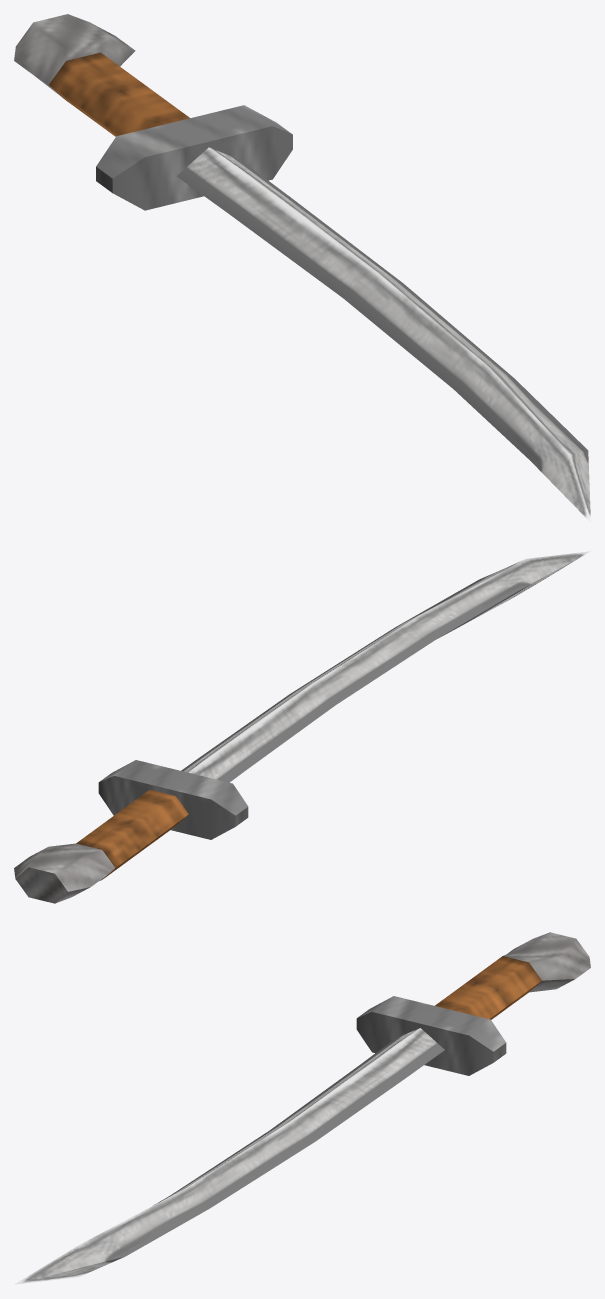
File: humanCutlass.fbx
The picture shows the model from 3 angles, top to bottom: view 1: azimuth 30°, elevation 25°; view 2: azimuth 150°, elevation 25°; view 3: azimuth 330°, elevation 25°; orthographic projection. The views are drawn at different scales.
Visible parts, largest first — view 1: humanCutlass; view 2: humanCutlass; view 3: humanCutlass.
Part boxes in pixels (x1,y1,x2,y2): humanCutlass: (14,14,590,522); humanCutlass: (14,551,590,903); humanCutlass: (14,932,590,1284).
Size of the model in its own units: 0.973 by 0.2753 by 5.9.
